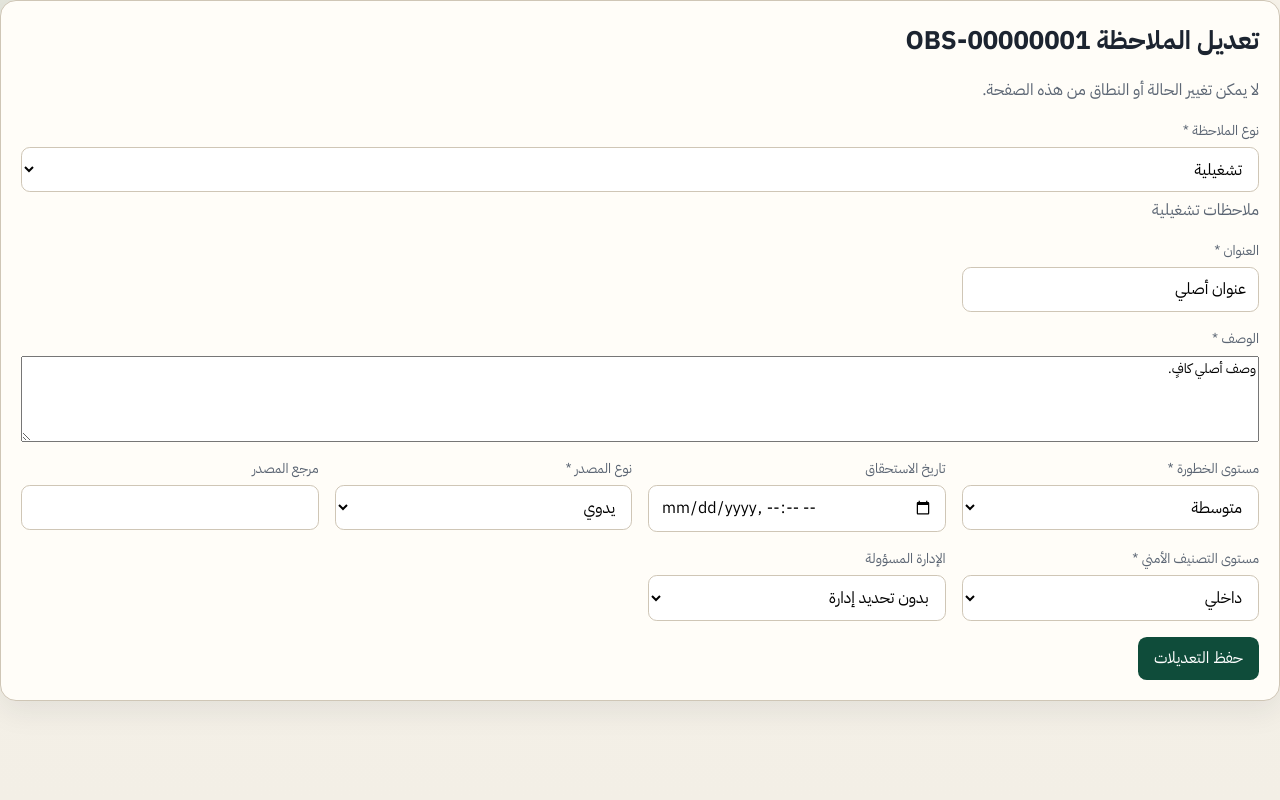
Test case: NoteEditPage › shows a clear conflict message on 409 and clears it after reload
Expected: the field showing "عنوان أصلي" is shown, [962,267,1259,312]
Click the button "حفظ التعديلات".
click(1198, 659)  # box [1138,637,1259,680]
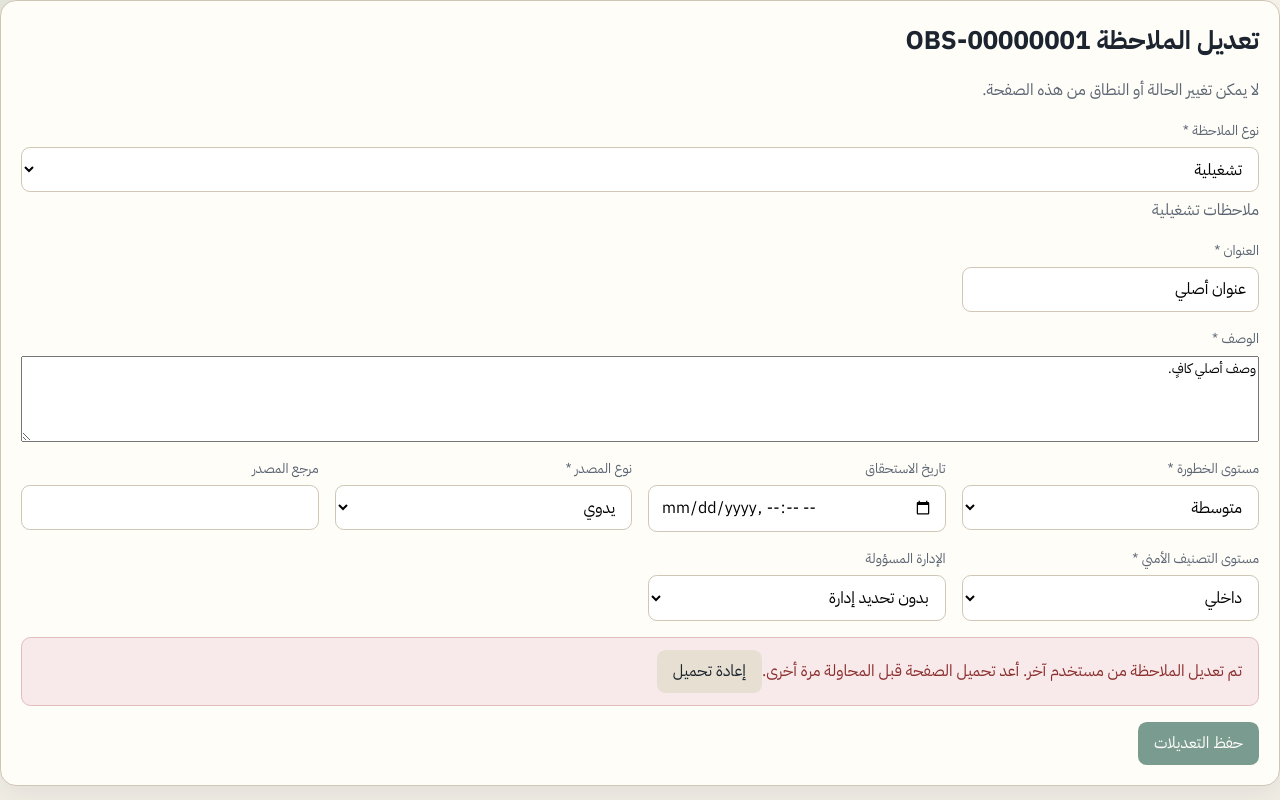
Expected: the text "تم تعديل الملاحظة من مستخدم آخر" is shown, [762,659,1242,683]
Expected: the button "حفظ التعديلات" is disabled, [1138,722,1259,765]
Click the button "إعادة تحميل".
click(709, 672)  # box [657,650,762,693]
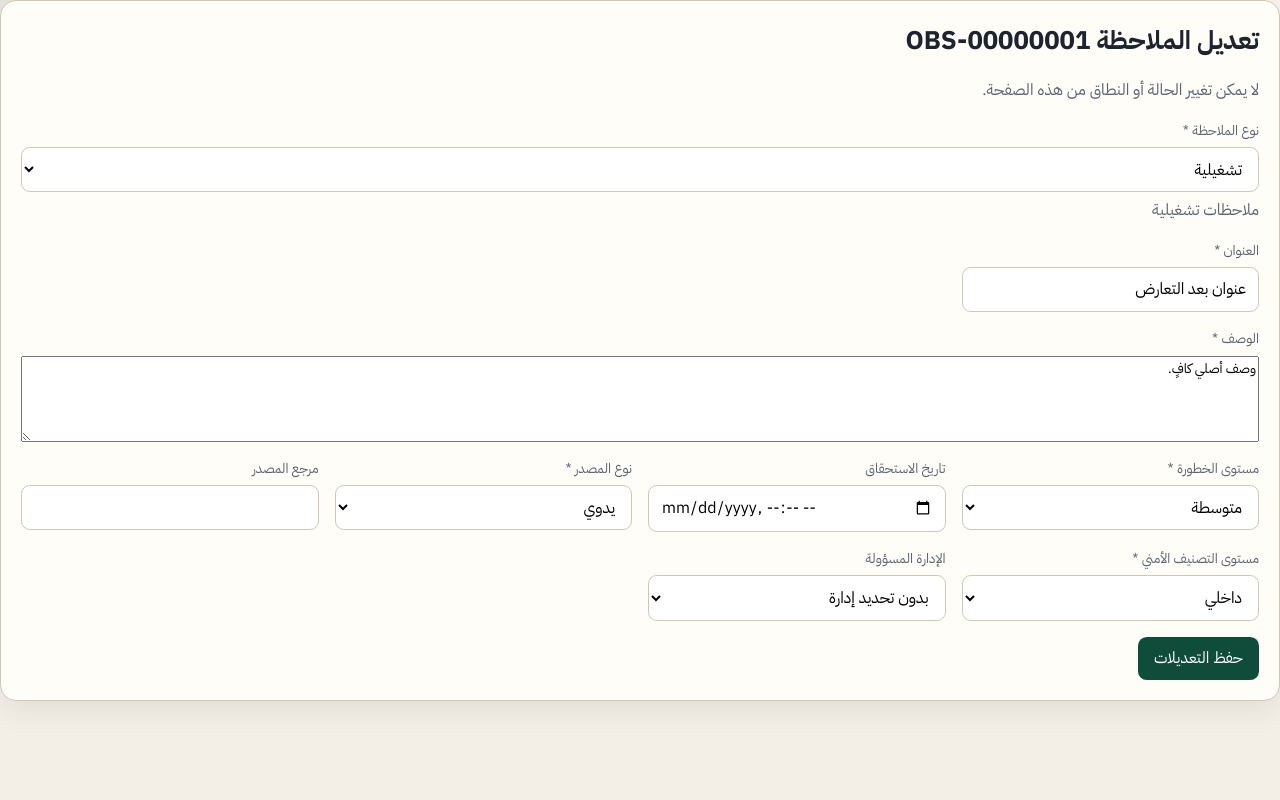
Expected: the text "تم تعديل الملاحظة من مستخدم آخر" is gone
Expected: the button "حفظ التعديلات" is enabled, [1138,637,1259,680]
